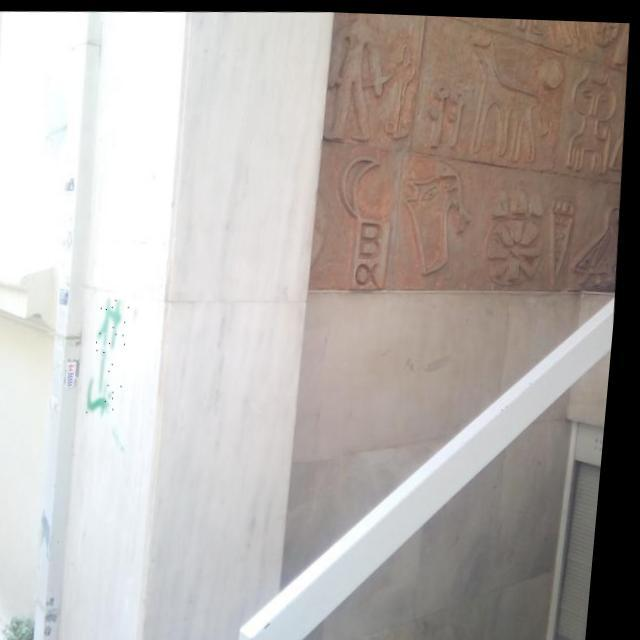-: (84, 298, 138, 412)
